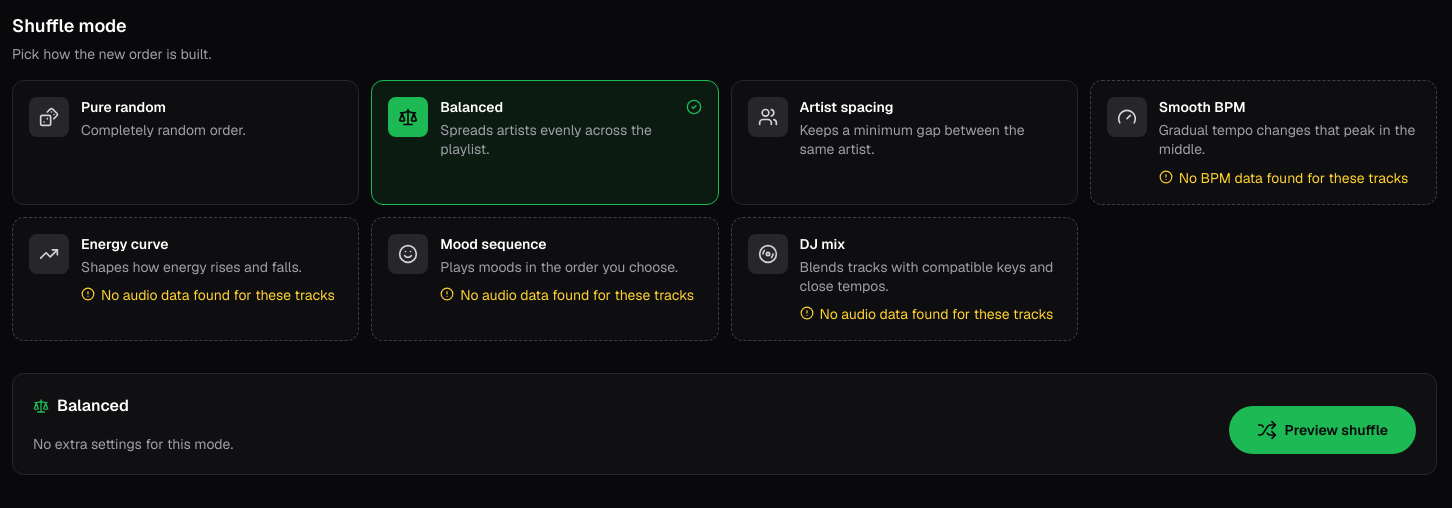
Test: ShuffleTab › explains why audio-based modes are unavailable
Click the button "DJ mix": (768, 254) x1=730 y1=216 x2=1078 y2=341
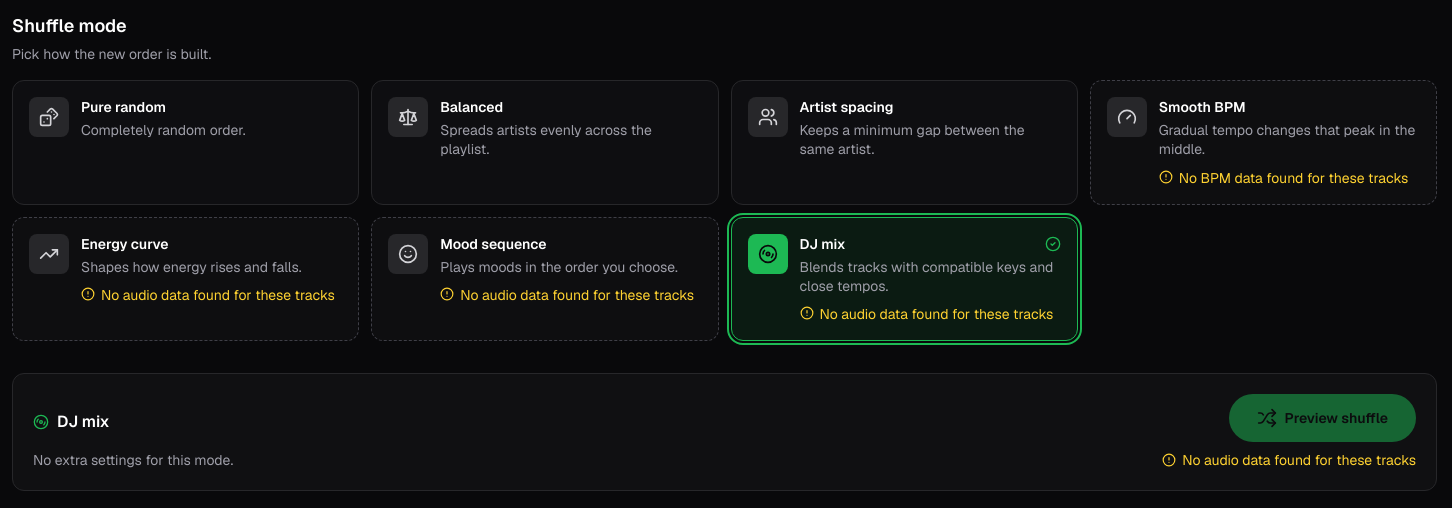
Expected: the 1st text "No audio data found for these tracks" is shown, x1=81 y1=285 x2=342 y2=305
Result: the button "Preview shuffle" is disabled at x1=1228 y1=394 x2=1416 y2=442
